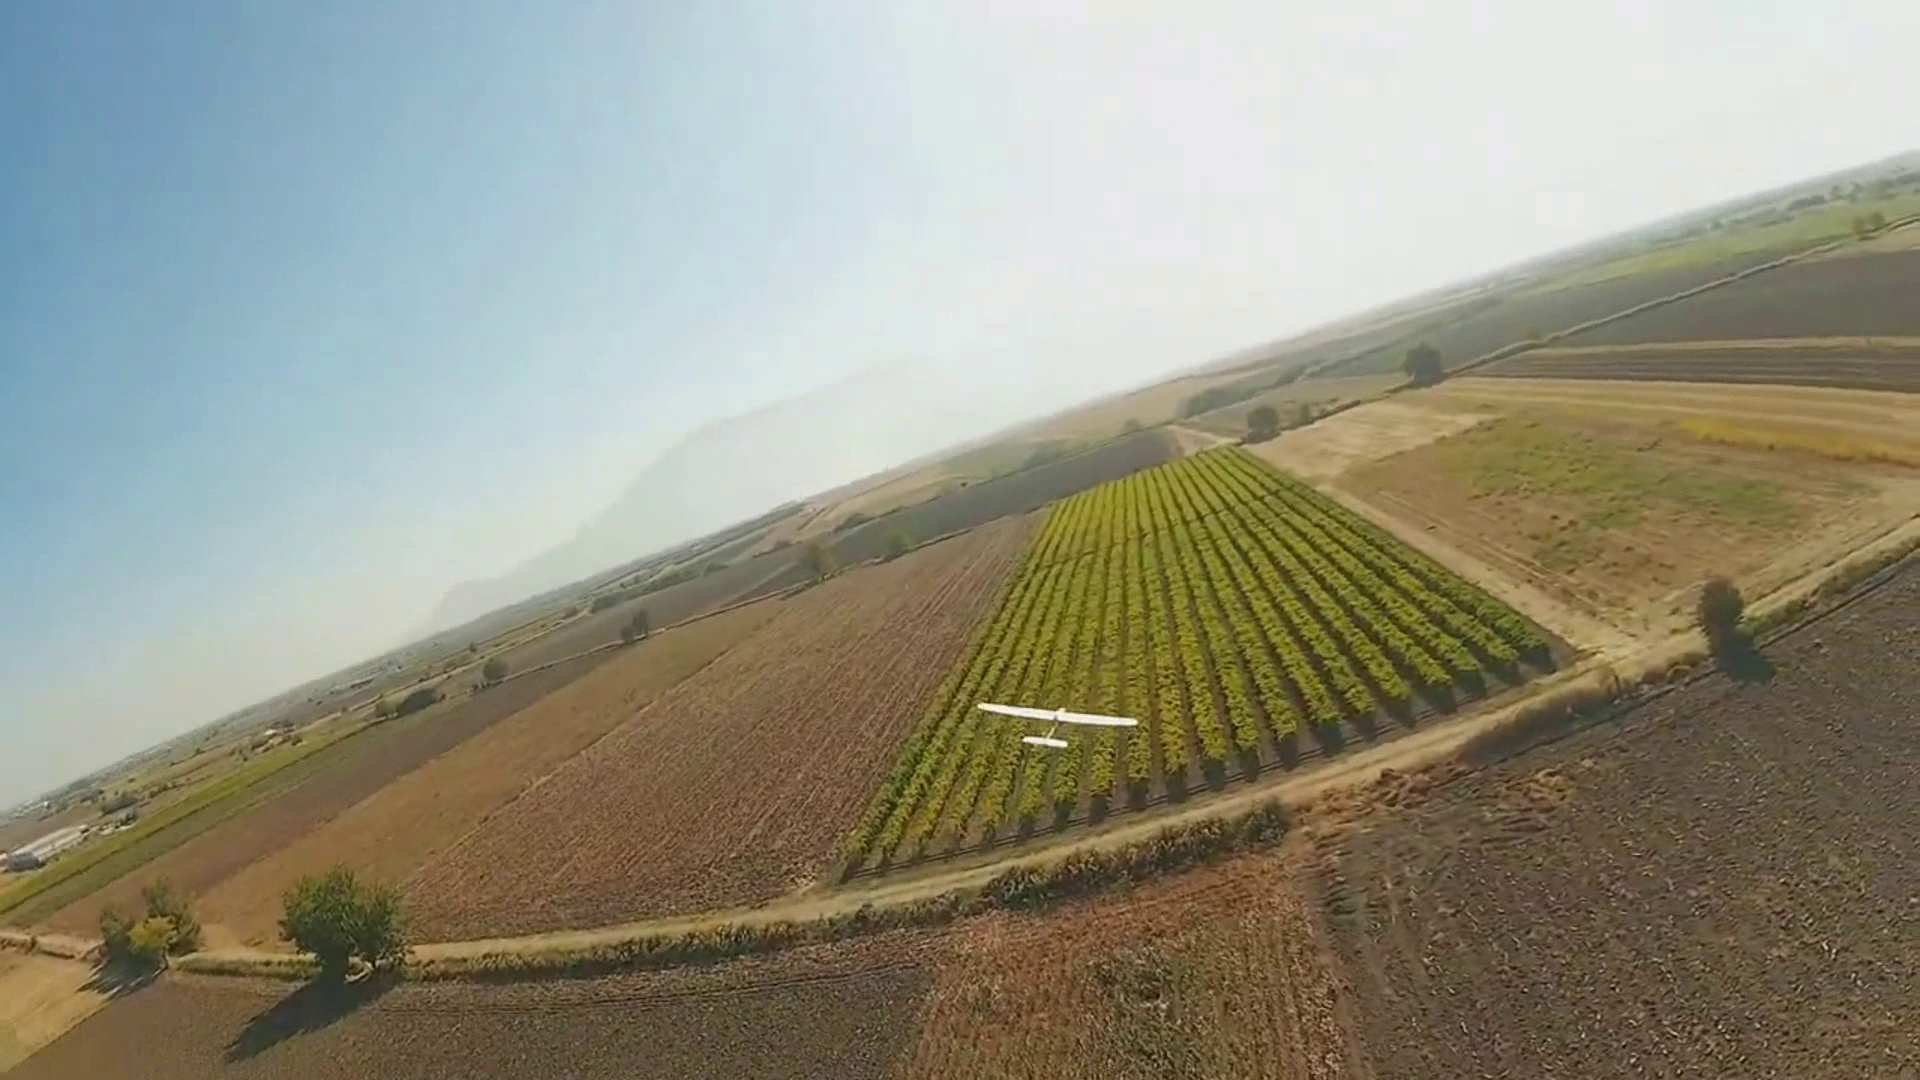airplane: (20, 158, 1912, 836)
